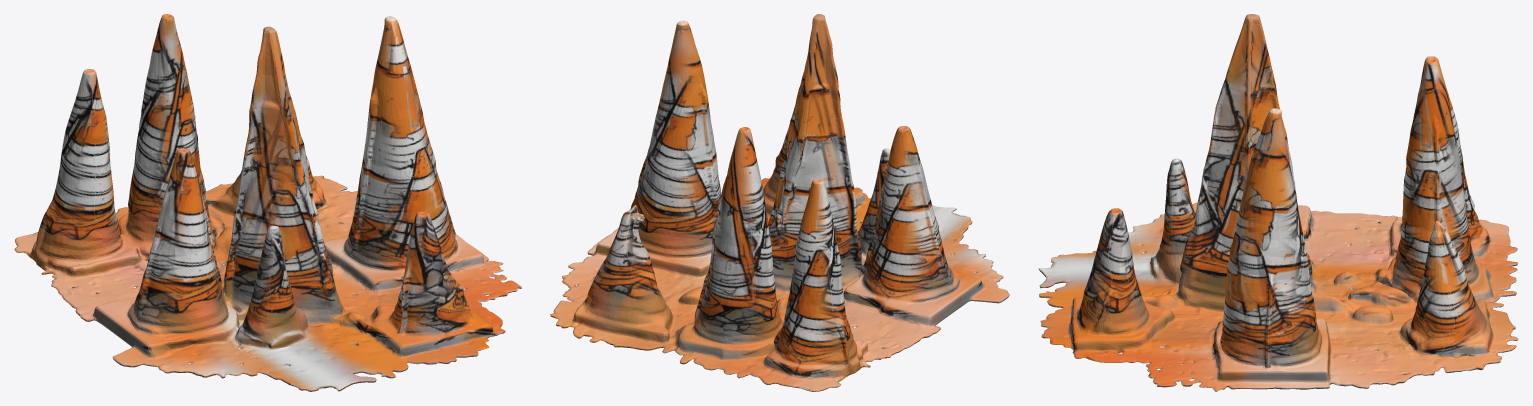
The model's file is cones.glb.
3 views of the same model, side by side, from view 1: azimuth 30°, elevation 25°; view 2: azimuth 150°, elevation 25°; view 3: azimuth 270°, elevation 25° (orthographic). The views are drawn at different scales.
Parts seen in each view (by area): view 1: cones; view 2: cones; view 3: cones.
Boxes of the visible parts, x1=… form: cones: x1=14, y1=14, x2=521, y2=391; cones: x1=550, y1=14, x2=1009, y2=391; cones: x1=1038, y1=14, x2=1518, y2=391.
Bounding box in the file's own units: 0.8973 × 0.6069 × 0.9633.
Materials: 1 (1 with a texture image).
